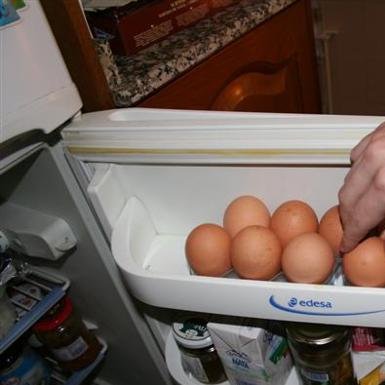egg: (184, 193, 385, 287)
